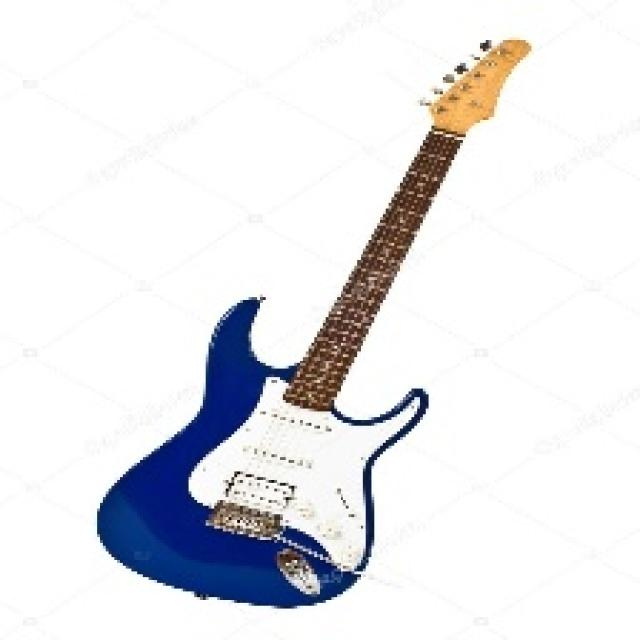guitar: (97, 37, 537, 612)
